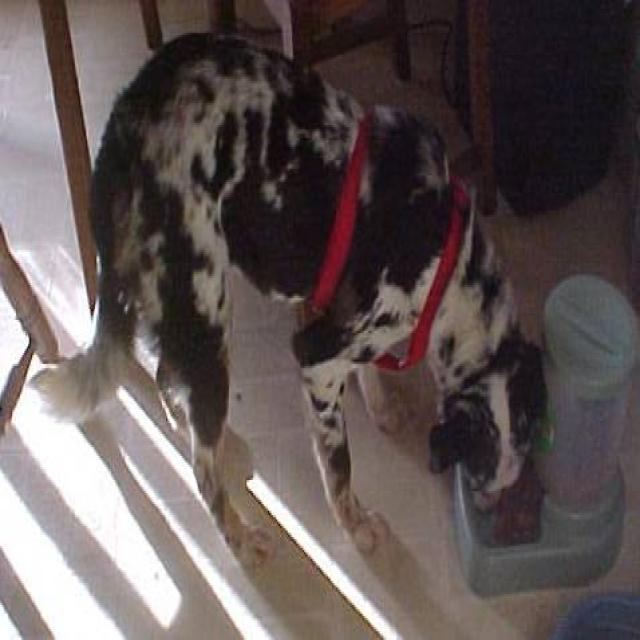Dog: (426, 343, 556, 524)
